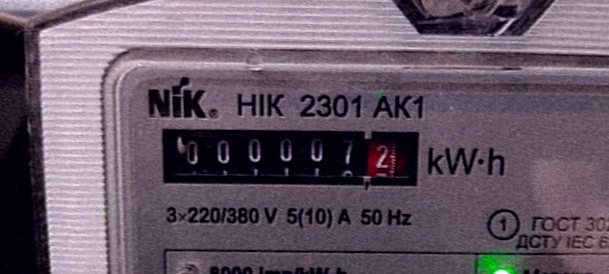0: (278, 136, 296, 164), (247, 136, 264, 165), (184, 139, 202, 166), (216, 138, 233, 166), (310, 137, 326, 165)
2: (374, 144, 391, 171)
7: (341, 137, 357, 167)
screen: (150, 116, 432, 199)
